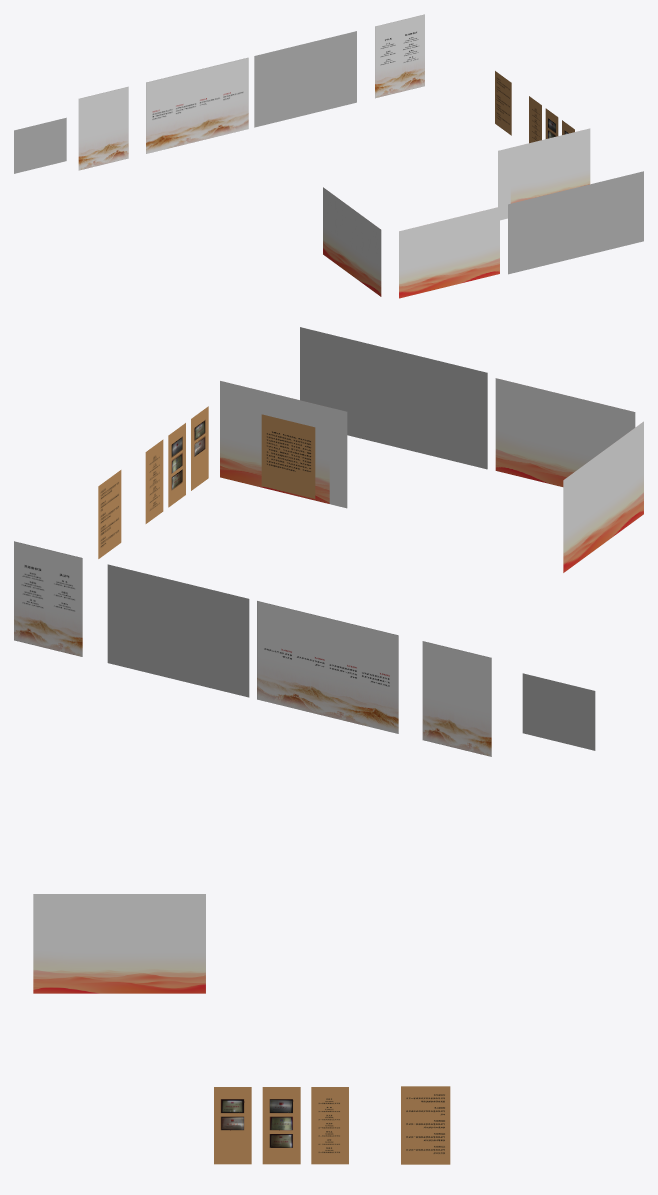
3 renders of one model, top to bottom at view 1: azimuth 30°, elevation 25°; view 2: azimuth 150°, elevation 25°; view 3: azimuth 270°, elevation 25°, orthographic. The views are drawn at different scales.
Parts seen in each view (by area): view 1: 8中队_建设成就, 8中队_发展历程右, 8中队_发展历程左, 8中队_军营文化, 8中队_重大任务, 8中队_官兵风采, 8中队_历史沿革, 8中队_历任主官, 8中队_前言, 8中队_集体荣誉, 8中队_个人荣誉左; view 2: 8中队_建设成就, 8中队_发展历程右, 8中队_发展历程左, 8中队_军营文化, 8中队_重大任务, 8中队_官兵风采, 8中队_历史沿革, 8中队_历任主官, 8中队_前言, 8中队_未来寄语, 8中队_集体荣誉, 8中队_个人荣誉左 (+2 smaller); view 3: 8中队_官兵风采, 8中队_集体荣誉, 8中队_个人荣誉中, 8中队_个人荣誉右, 8中队_个人荣誉左.
Boxes of the visible parts, x1,y1,x2,y2 form: 8中队_建设成就: [508, 171, 643, 274]; 8中队_发展历程右: [254, 31, 356, 127]; 8中队_发展历程左: [146, 57, 248, 153]; 8中队_军营文化: [399, 207, 499, 298]; 8中队_重大任务: [498, 128, 590, 220]; 8中队_官兵风采: [323, 187, 381, 296]; 8中队_历史沿革: [78, 86, 128, 170]; 8中队_历任主官: [375, 14, 424, 98]; 8中队_前言: [14, 117, 66, 173]; 8中队_集体荣誉: [495, 71, 511, 135]; 8中队_个人荣誉左: [529, 96, 541, 143]; 8中队_建设成就: [300, 327, 487, 469]; 8中队_发展历程右: [107, 564, 249, 697]; 8中队_发展历程左: [257, 601, 398, 733]; 8中队_军营文化: [495, 378, 635, 486]; 8中队_重大任务: [220, 381, 347, 508]; 8中队_官兵风采: [563, 421, 643, 572]; 8中队_历史沿革: [422, 641, 491, 756]; 8中队_历任主官: [14, 541, 82, 656]; 8中队_前言: [522, 673, 595, 750]; 8中队_未来寄语: [261, 414, 315, 498]; 8中队_集体荣誉: [98, 470, 121, 558]; 8中队_个人荣誉左: [145, 439, 163, 523]; 8中队_官兵风采: [33, 894, 205, 993]; 8中队_集体荣誉: [401, 1086, 450, 1164]; 8中队_个人荣誉中: [262, 1087, 300, 1164]; 8中队_个人荣誉右: [214, 1087, 251, 1164]; 8中队_个人荣誉左: [311, 1087, 348, 1164].
Bounding box in the file's own units: 1325 × 216 × 1154.
